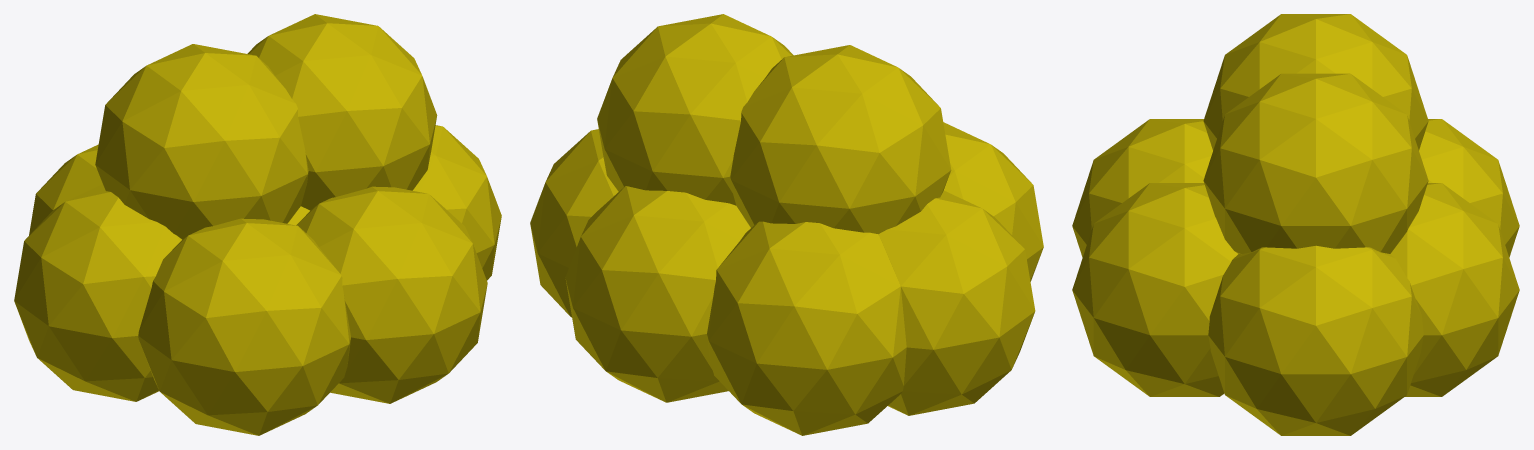
File: arbusto.fbx
3 views of the same model, side by side, from view 1: azimuth 30°, elevation 25°; view 2: azimuth 150°, elevation 25°; view 3: azimuth 270°, elevation 25° (orthographic). The views are drawn at different scales.
Parts seen in each view (by area): view 1: Icosphere.009; view 2: Icosphere.009; view 3: Icosphere.009.
Boxes of the visible parts, x1,y1,x2,y2 form: Icosphere.009: (14, 14, 501, 435); Icosphere.009: (530, 14, 1043, 435); Icosphere.009: (1072, 14, 1519, 435).
Size of the model in its own units: 465 by 314 by 397.
